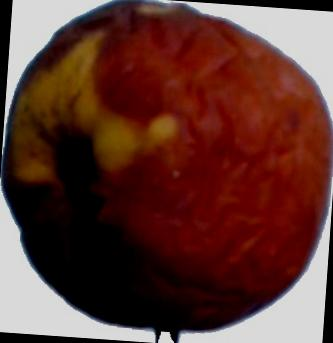Apple Overripe: (0, 0, 333, 339)
